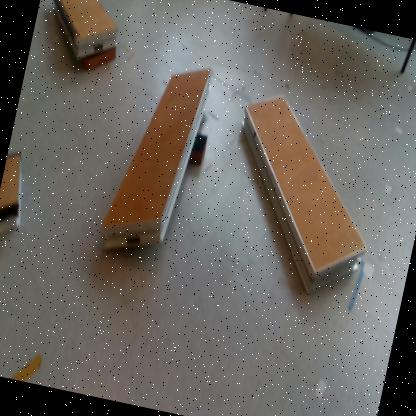Stairs: (239, 93, 369, 294), (100, 64, 214, 251), (54, 1, 120, 61), (1, 151, 21, 240)
